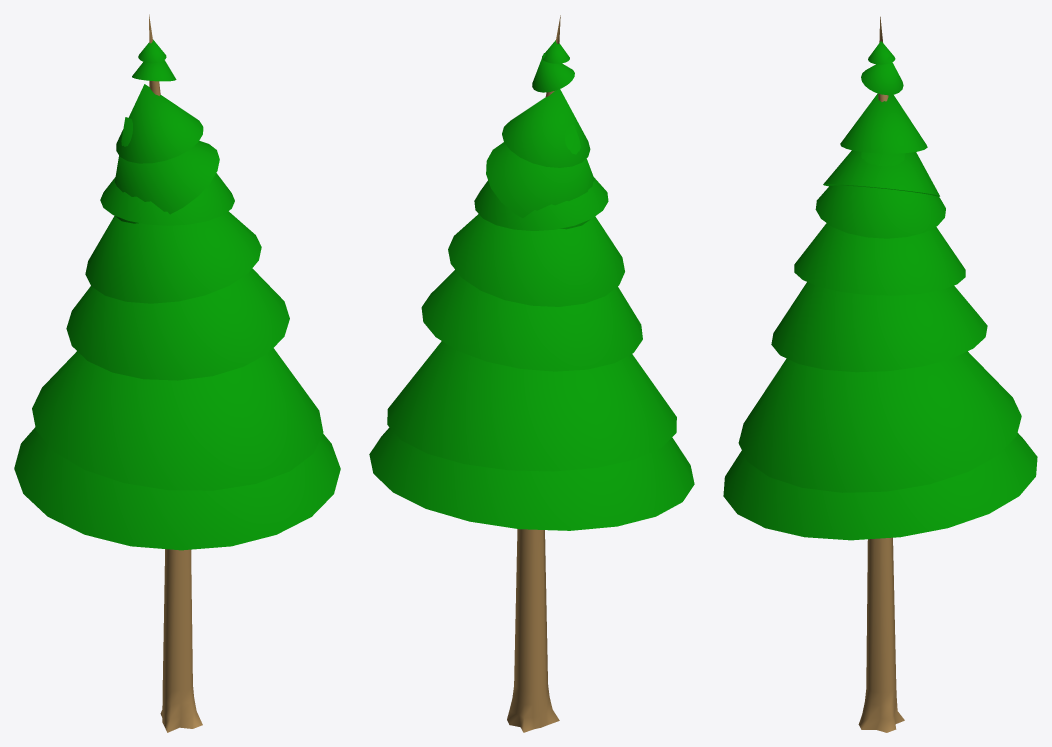
Rendered from back_ground_pine04.fbx.
3 renders of one model, left to right at view 1: azimuth 30°, elevation 25°; view 2: azimuth 150°, elevation 25°; view 3: azimuth 270°, elevation 25°, orthographic. The views are drawn at different scales.
Visible parts, largest first — view 1: back_ground_pine04_trunk; view 2: back_ground_pine04_trunk; view 3: back_ground_pine04_trunk.
Boxes of the visible parts, box(x1,y1,x2,y2) form: back_ground_pine04_trunk: box(14, 14, 340, 732); back_ground_pine04_trunk: box(369, 15, 694, 732); back_ground_pine04_trunk: box(723, 16, 1037, 732).
Bounding box in the file's own units: 1302 × 3172 × 1299.
